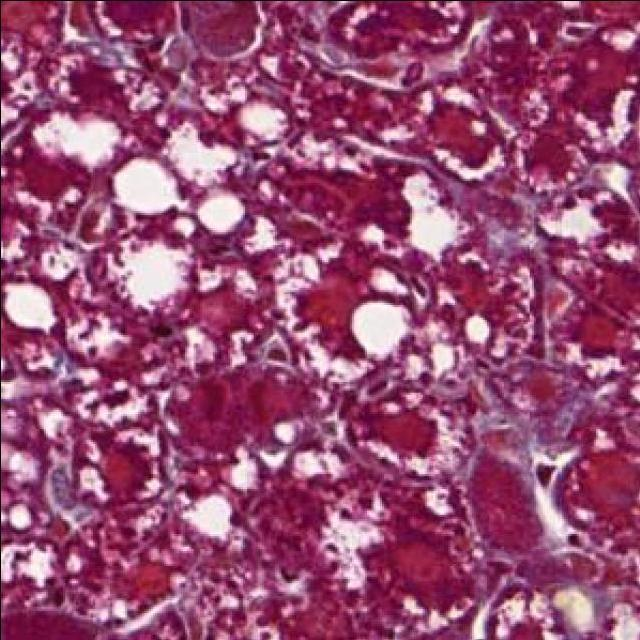steatosis: (124, 242, 186, 307), (112, 158, 179, 213), (351, 300, 409, 357), (4, 282, 55, 331), (196, 192, 244, 232), (239, 102, 286, 140), (465, 314, 489, 342)
